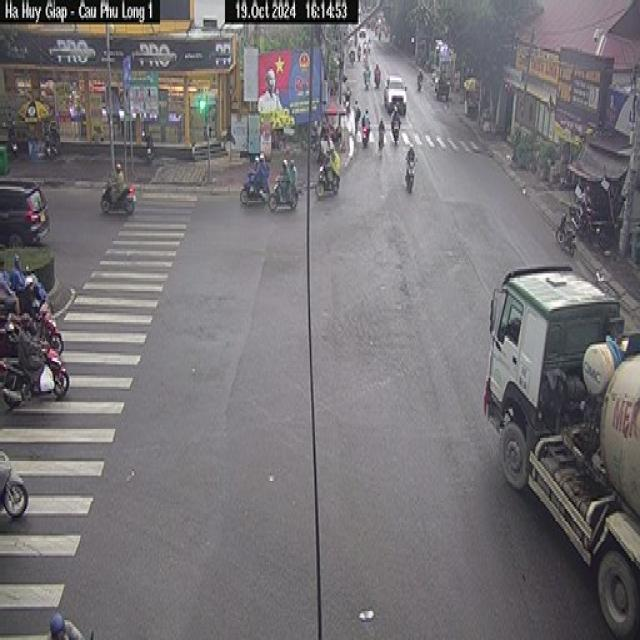car: (0, 178, 48, 246), (383, 72, 411, 112)
motorcycle: (1, 354, 63, 398), (34, 308, 70, 362), (0, 449, 30, 513), (102, 183, 138, 217), (244, 175, 277, 205), (271, 178, 298, 210), (0, 316, 21, 356), (559, 221, 581, 256), (0, 287, 22, 317), (318, 167, 340, 196), (402, 164, 420, 192), (392, 123, 403, 154), (359, 122, 369, 143), (378, 132, 384, 153)
person: (44, 606, 85, 640), (25, 271, 41, 325), (20, 307, 36, 358), (12, 247, 26, 295), (0, 251, 13, 293), (349, 94, 364, 130), (323, 138, 336, 176), (258, 146, 270, 186), (287, 152, 301, 185), (279, 148, 289, 185), (376, 112, 391, 136), (568, 203, 580, 228), (252, 150, 260, 185), (363, 102, 374, 127), (115, 156, 123, 189), (408, 142, 417, 169), (392, 98, 400, 126)
truck: (471, 259, 640, 639)
